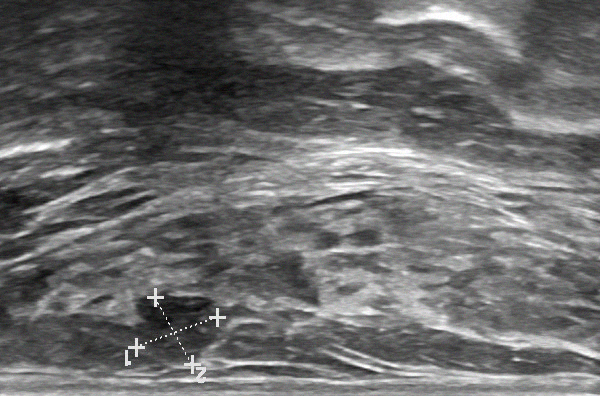Benign: (134, 285, 221, 365)
